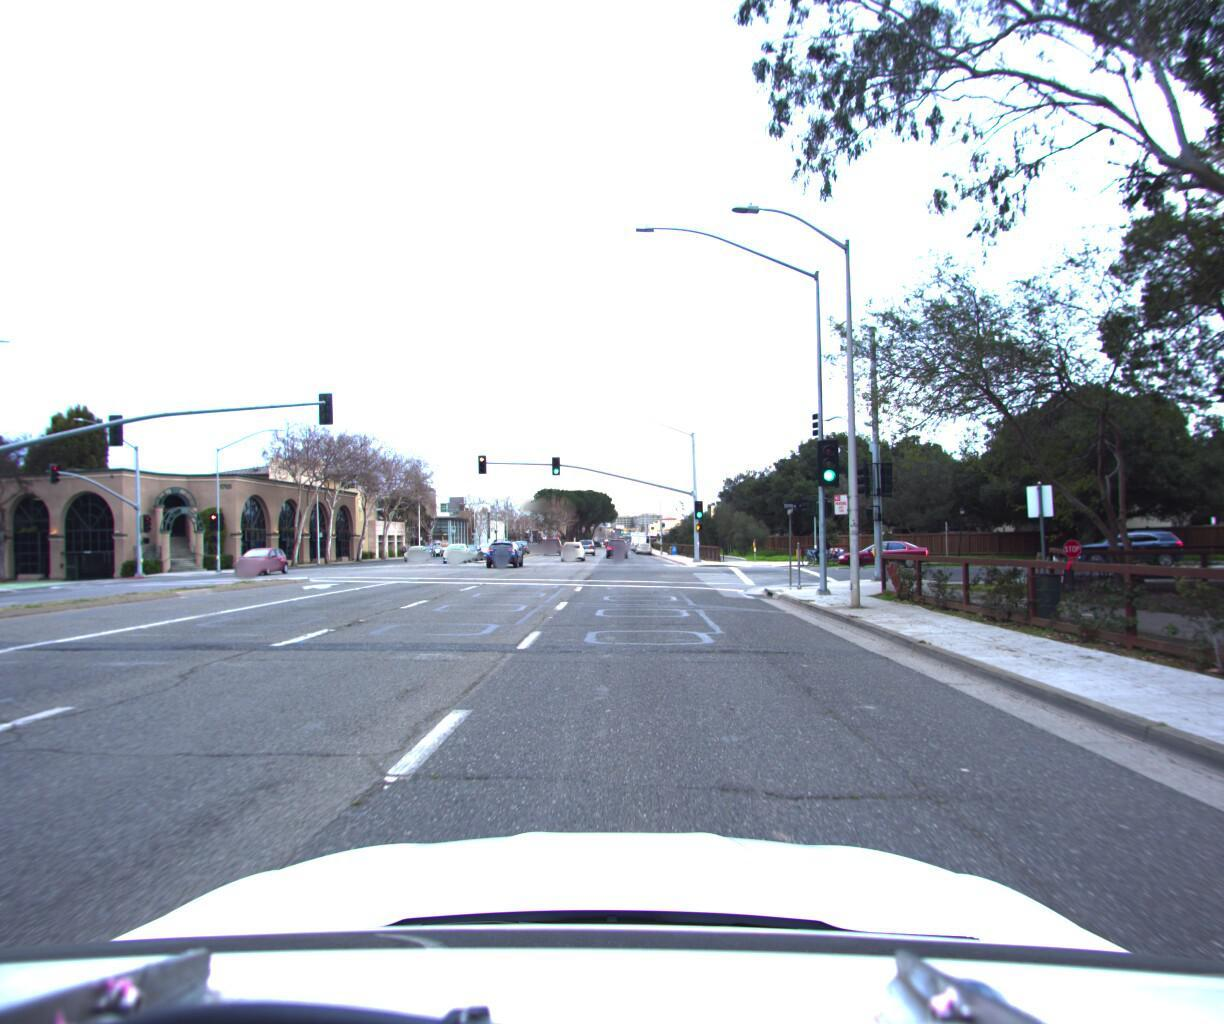bicycle: (796, 524, 837, 559)
car: (1061, 523, 1184, 560), (832, 532, 930, 561), (224, 542, 290, 573), (481, 534, 523, 563), (441, 537, 472, 557), (558, 534, 585, 556), (399, 540, 430, 557), (606, 534, 629, 554), (585, 532, 604, 550)
